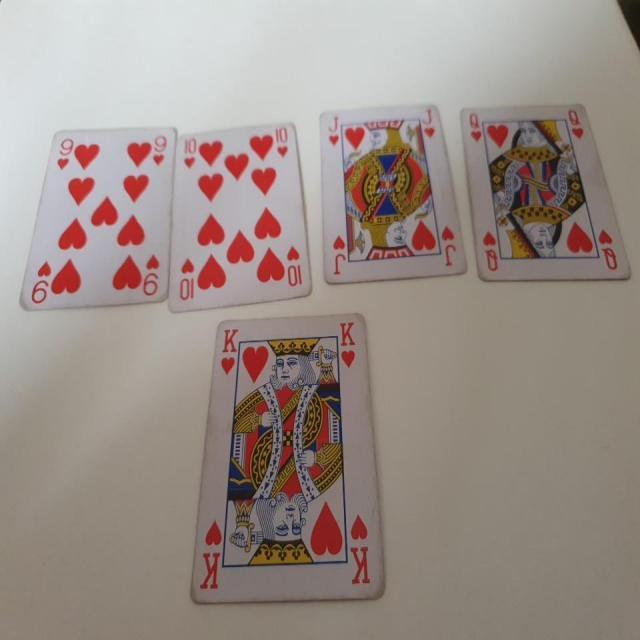10 of hearts: (172, 120, 314, 316)
9 of hearts: (13, 125, 176, 314)
jack of hearts: (314, 97, 470, 289)
king of hearts: (190, 307, 388, 598)
queen of hearts: (456, 92, 634, 282)
